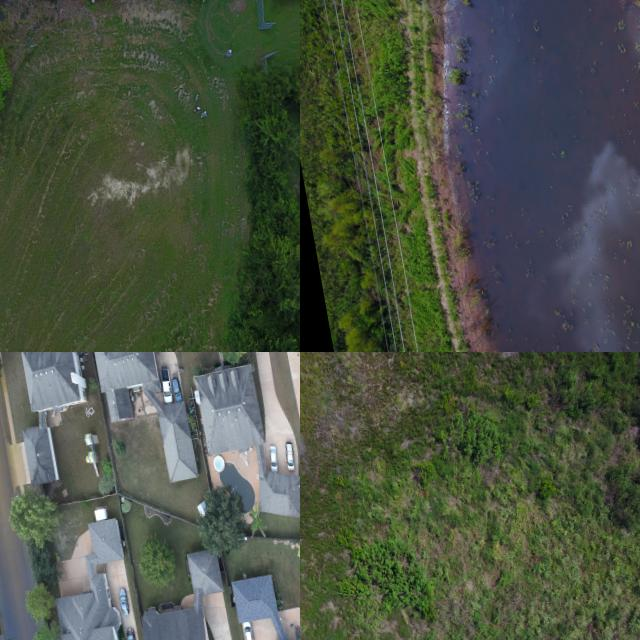fire: (444, 0, 640, 352), (0, 449, 35, 640)
